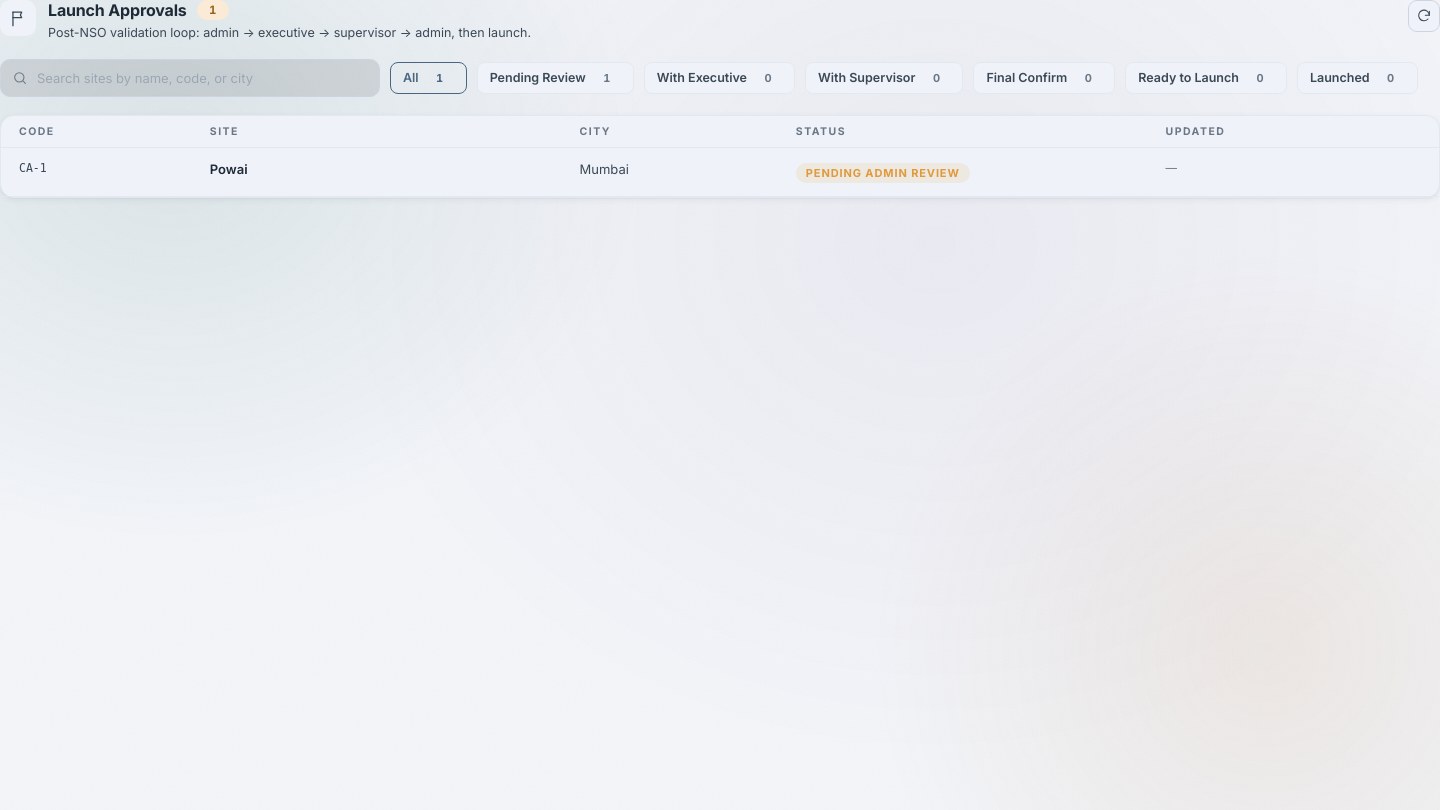
Test case: LaunchApprovalTab — unsaved changes guard › warns before an action that would discard an unsaved edit
Click the text "Powai": [229, 169] box x1=210 y1=161 x2=248 y2=177
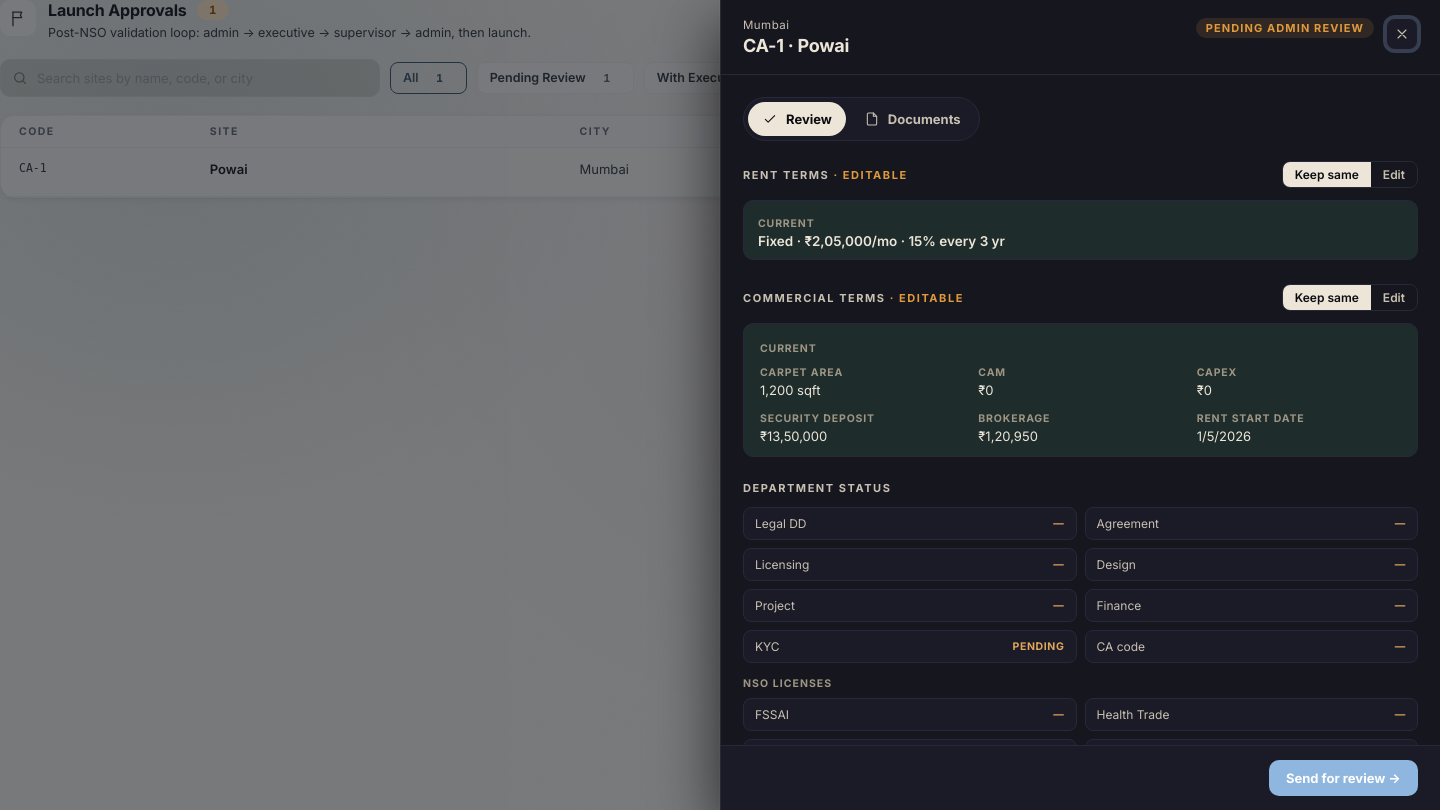
Click the button with aria-label "Edit commercial terms": [1394, 298] box x1=1371 y1=285 x2=1417 y2=310
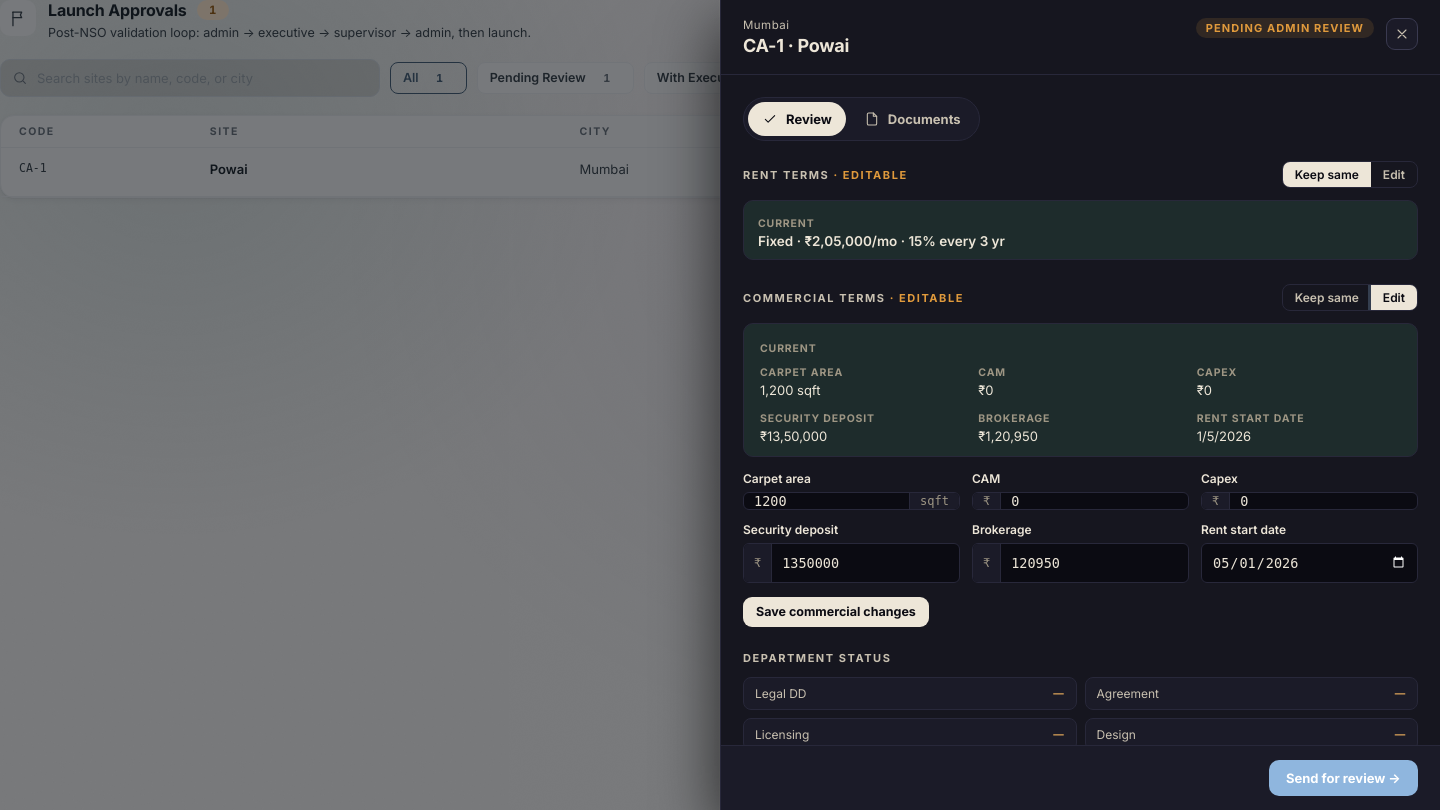
In the 1st number field: [827, 501] box x1=744 y1=493 x2=909 y2=509, type "5"
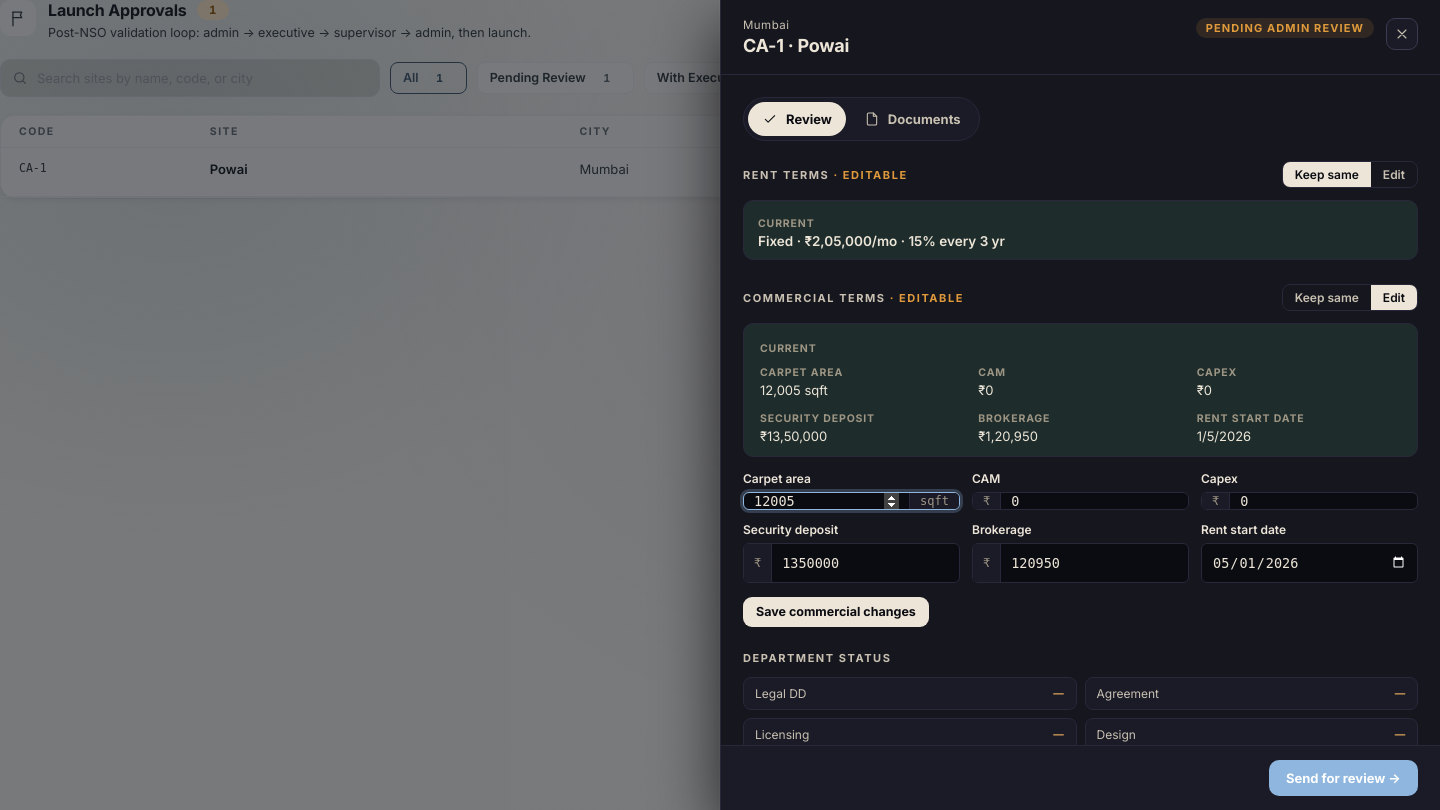
Click the button "Send for review →": [1344, 778] box x1=1269 y1=760 x2=1418 y2=796
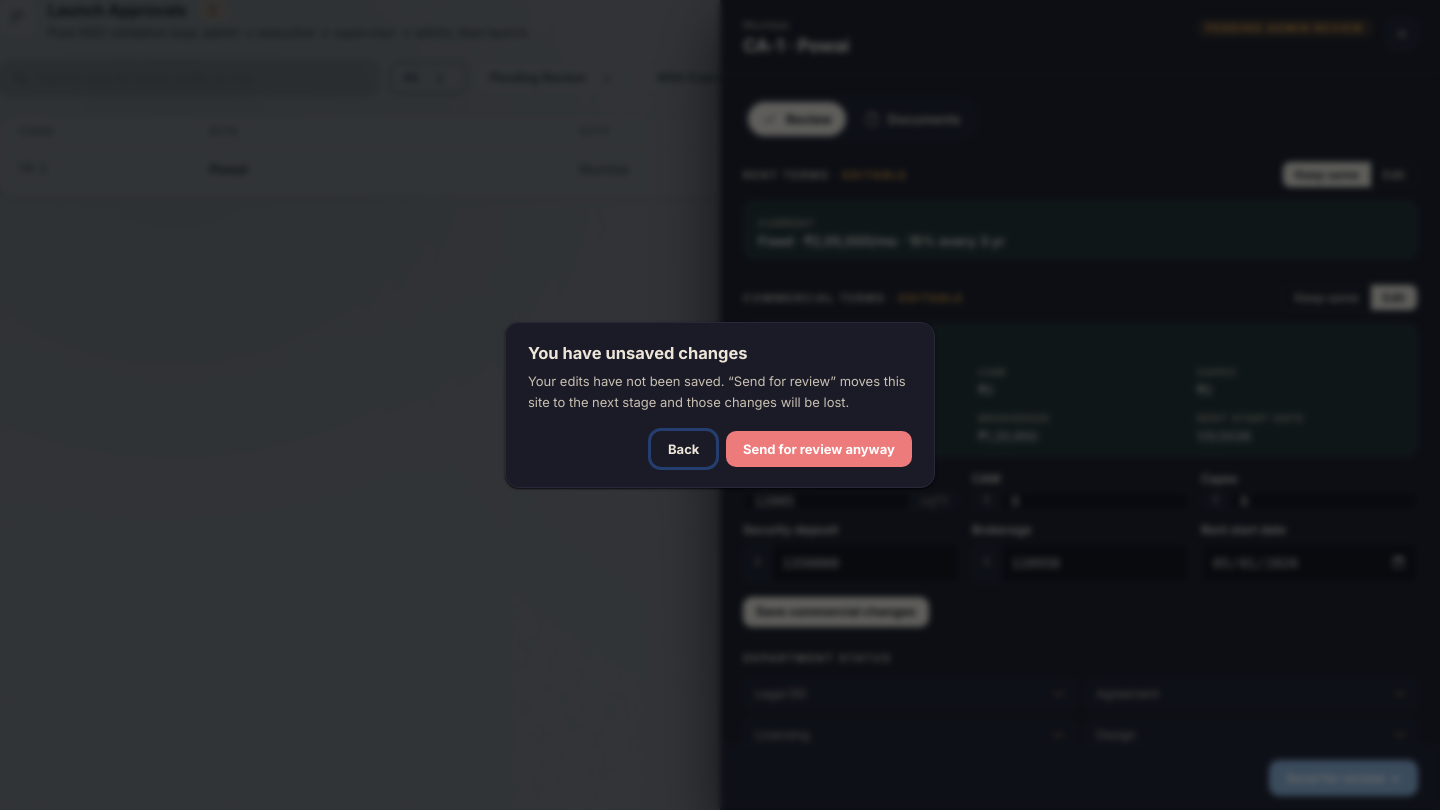
expect the heading "You have unsaved changes" is shown: met, box x1=528 y1=343 x2=748 y2=363
